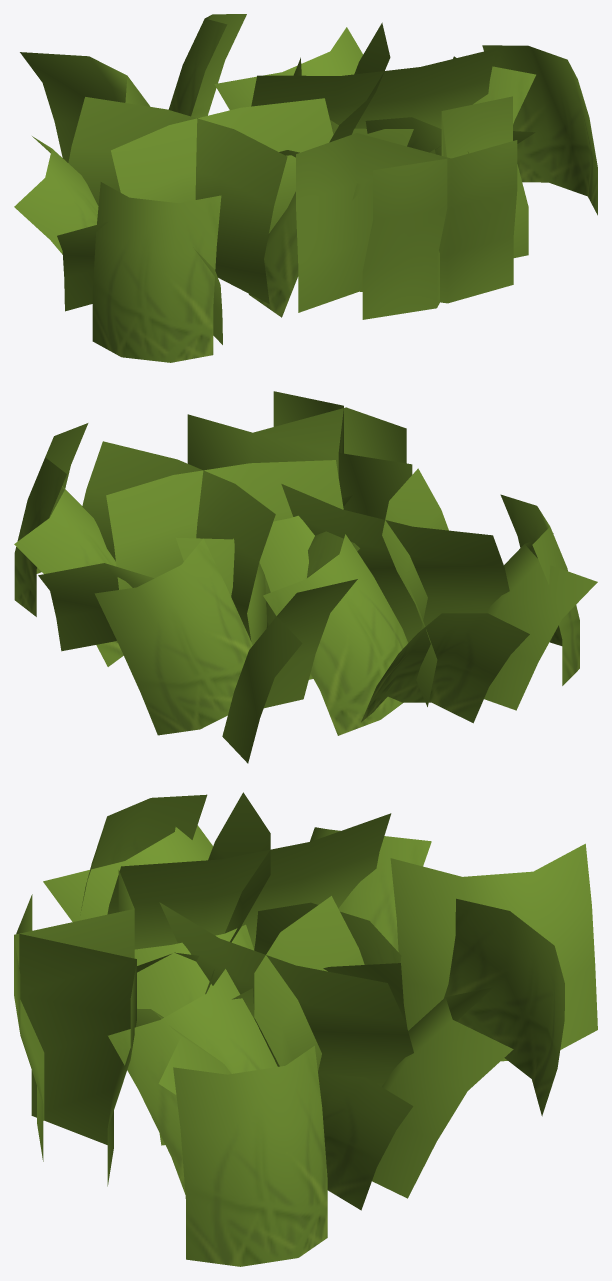
The model's file is Grass1.FBX.
3 renders of one model, top to bottom at view 1: azimuth 30°, elevation 25°; view 2: azimuth 150°, elevation 25°; view 3: azimuth 270°, elevation 25°, orthographic. The views are drawn at different scales.
Parts seen in each view (by area): view 1: GrassClump1; view 2: GrassClump1; view 3: GrassClump1.
Part boxes in pixels (x1=…): GrassClump1: x1=14, y1=14, x2=597, y2=362; GrassClump1: x1=14, y1=391, x2=597, y2=763; GrassClump1: x1=14, y1=792, x2=597, y2=1266.
Bounding box in the file's own units: 626 × 211 × 472.
